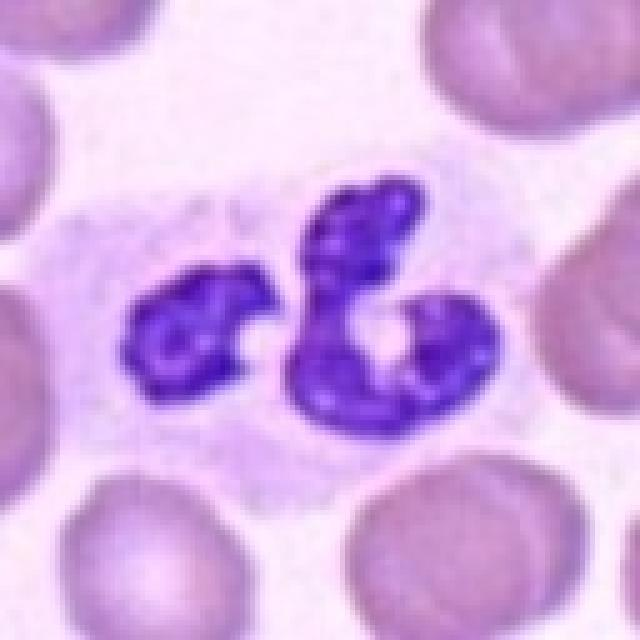neutro: (70, 85, 553, 477)
